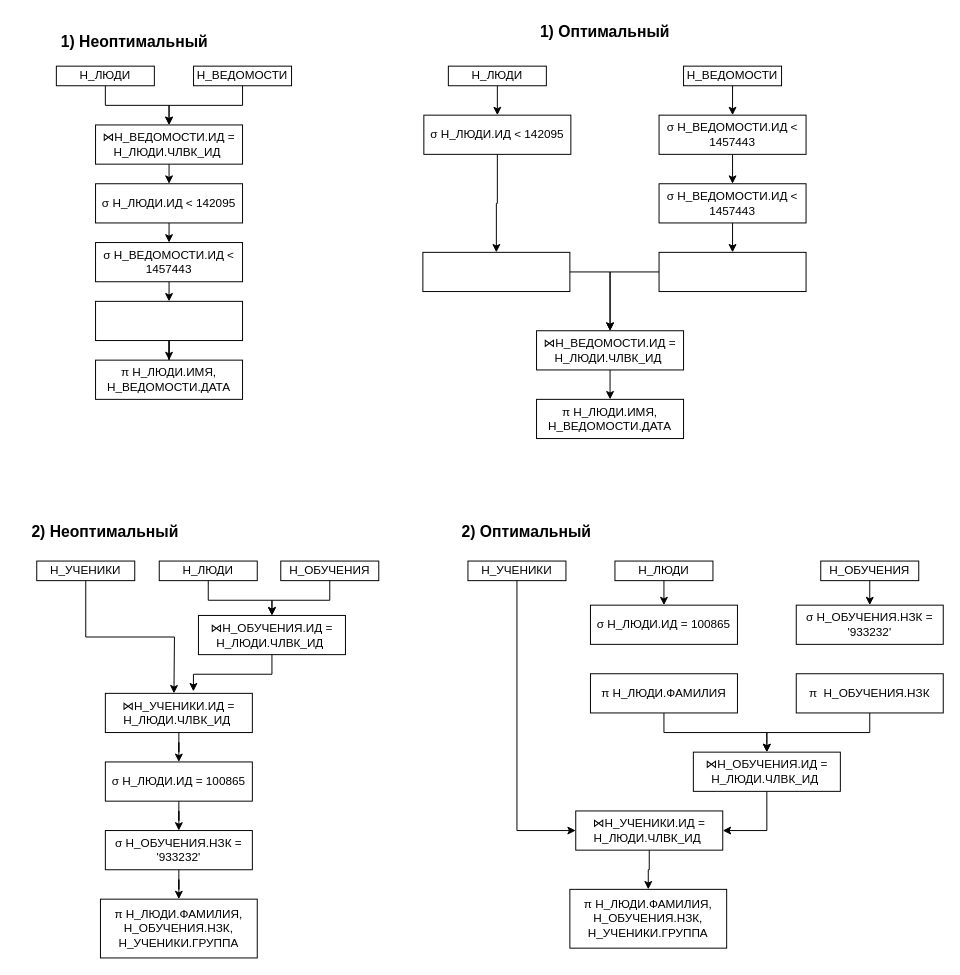
This 960x975 diagram has some shape labels left out. The centre of each missing label's shape, as x and y in pixels:
"π Н_ВЕДОМОСТИ.ДАТА" goes at [732,271].
"π Н_ЛЮДИ.ИМЯ" goes at [496,271].
"σ Н_ВЕДОМОСТИ.ИД < 1250972" goes at [169,320].
